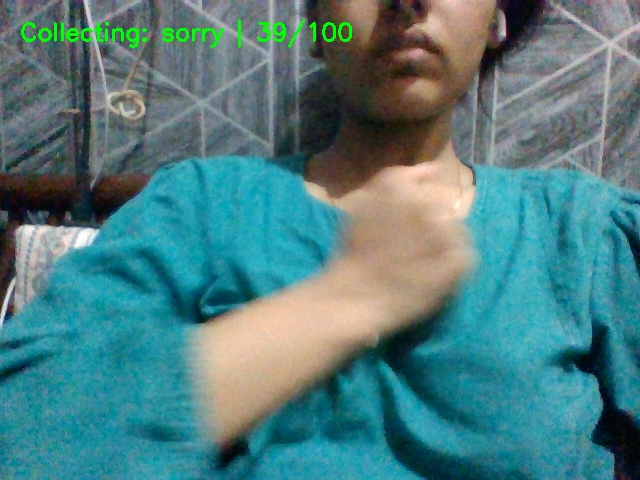sorry: (263, 160, 522, 373)
